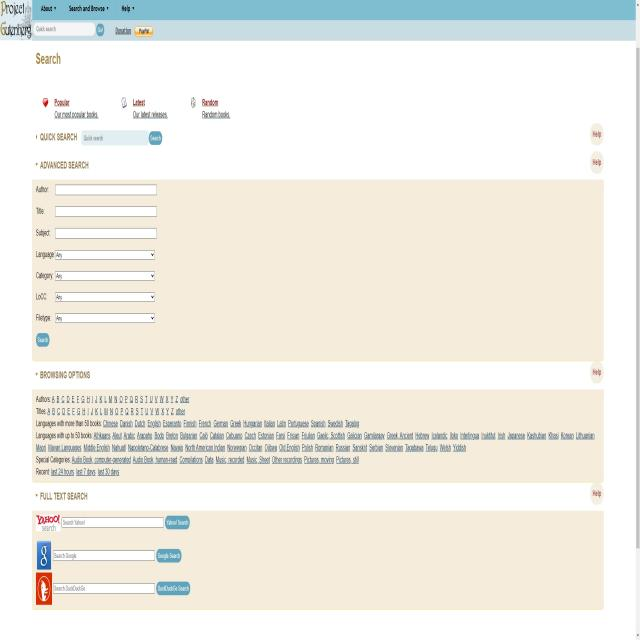search: (52, 546, 184, 561), (62, 514, 190, 528), (54, 580, 190, 591), (78, 132, 164, 148), (34, 21, 104, 37)
tab-bar: (36, 6, 140, 16)
